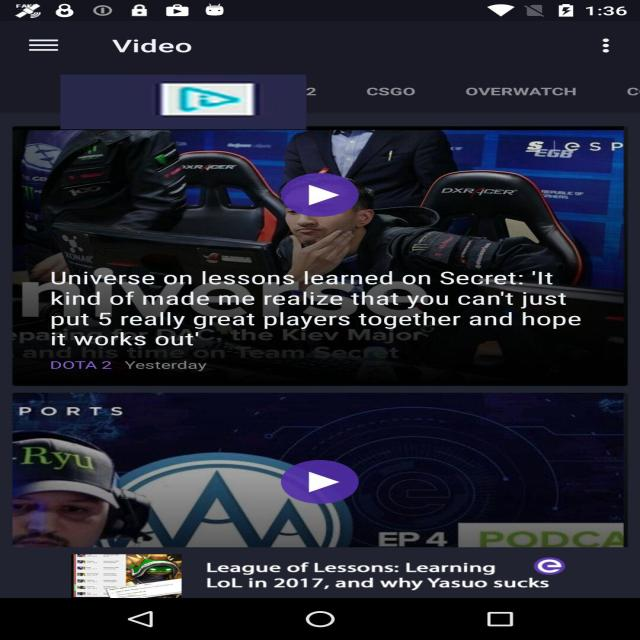sneaking: (61, 75, 306, 129)
